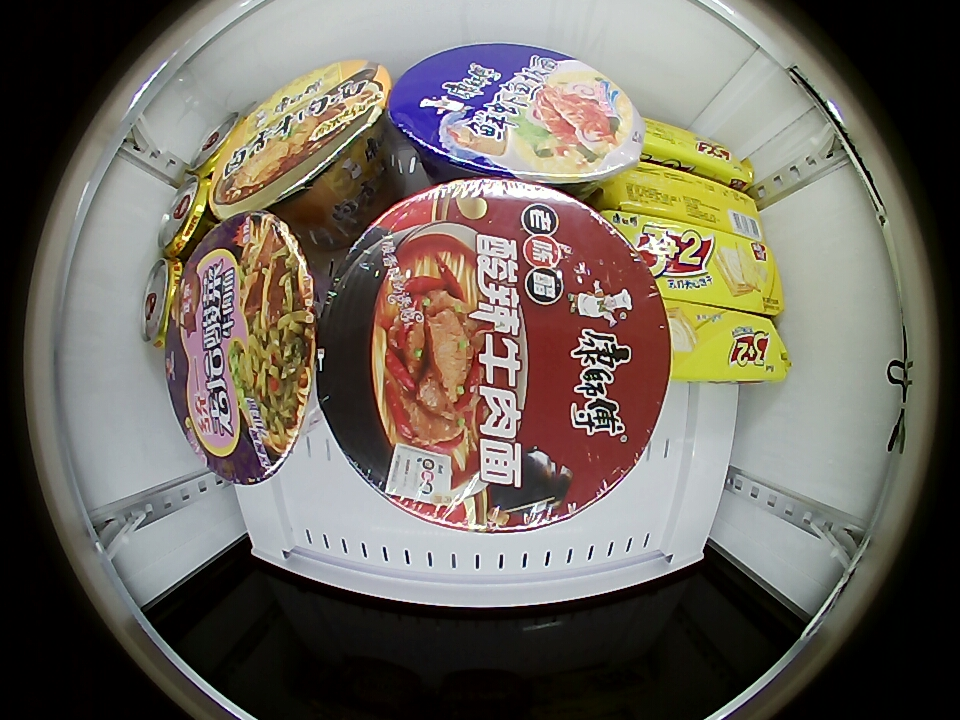3+2-2: (618, 220, 783, 312), (613, 166, 765, 239), (662, 304, 788, 384), (639, 118, 752, 188)
dongpeng: (157, 176, 217, 260), (141, 258, 189, 348), (189, 114, 240, 177)
laotansuancai: (166, 212, 320, 486)
luxiangniurou: (209, 59, 391, 218)
suanlaniurou: (314, 179, 673, 535)
xianxiayuban: (385, 44, 646, 184)
